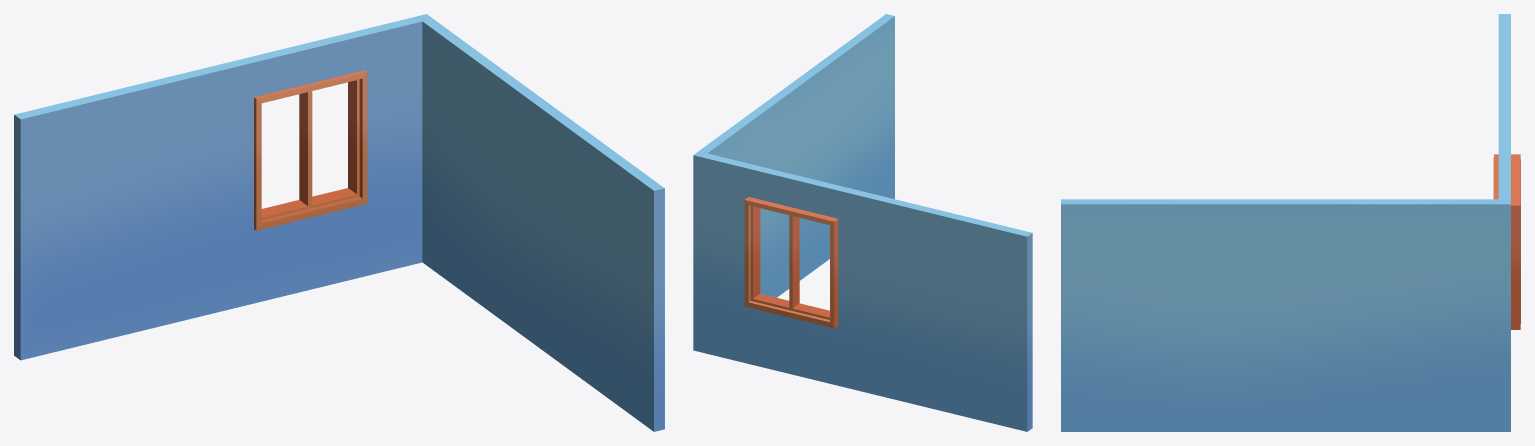
Rendered from stage_1_wall_a.fbx.
3 views of the same model, side by side, from view 1: azimuth 30°, elevation 25°; view 2: azimuth 150°, elevation 25°; view 3: azimuth 270°, elevation 25° (orthographic). The views are drawn at different scales.
Visible parts, largest first — view 1: wall; view 2: wall; view 3: wall.
Boxes of the visible parts, x1,y1,x2,y2 form: wall: (14, 14, 664, 431); wall: (693, 14, 1032, 431); wall: (1061, 14, 1520, 431).
Bounding box in the file's own units: 600 × 335 × 613.
